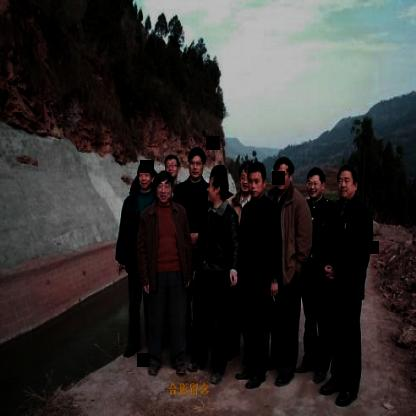head: (205, 163, 229, 207), (335, 162, 359, 202), (273, 154, 296, 192), (132, 158, 156, 194), (186, 145, 207, 183), (304, 164, 326, 199), (247, 158, 265, 198), (154, 173, 175, 207), (162, 154, 180, 181), (238, 158, 249, 196)
